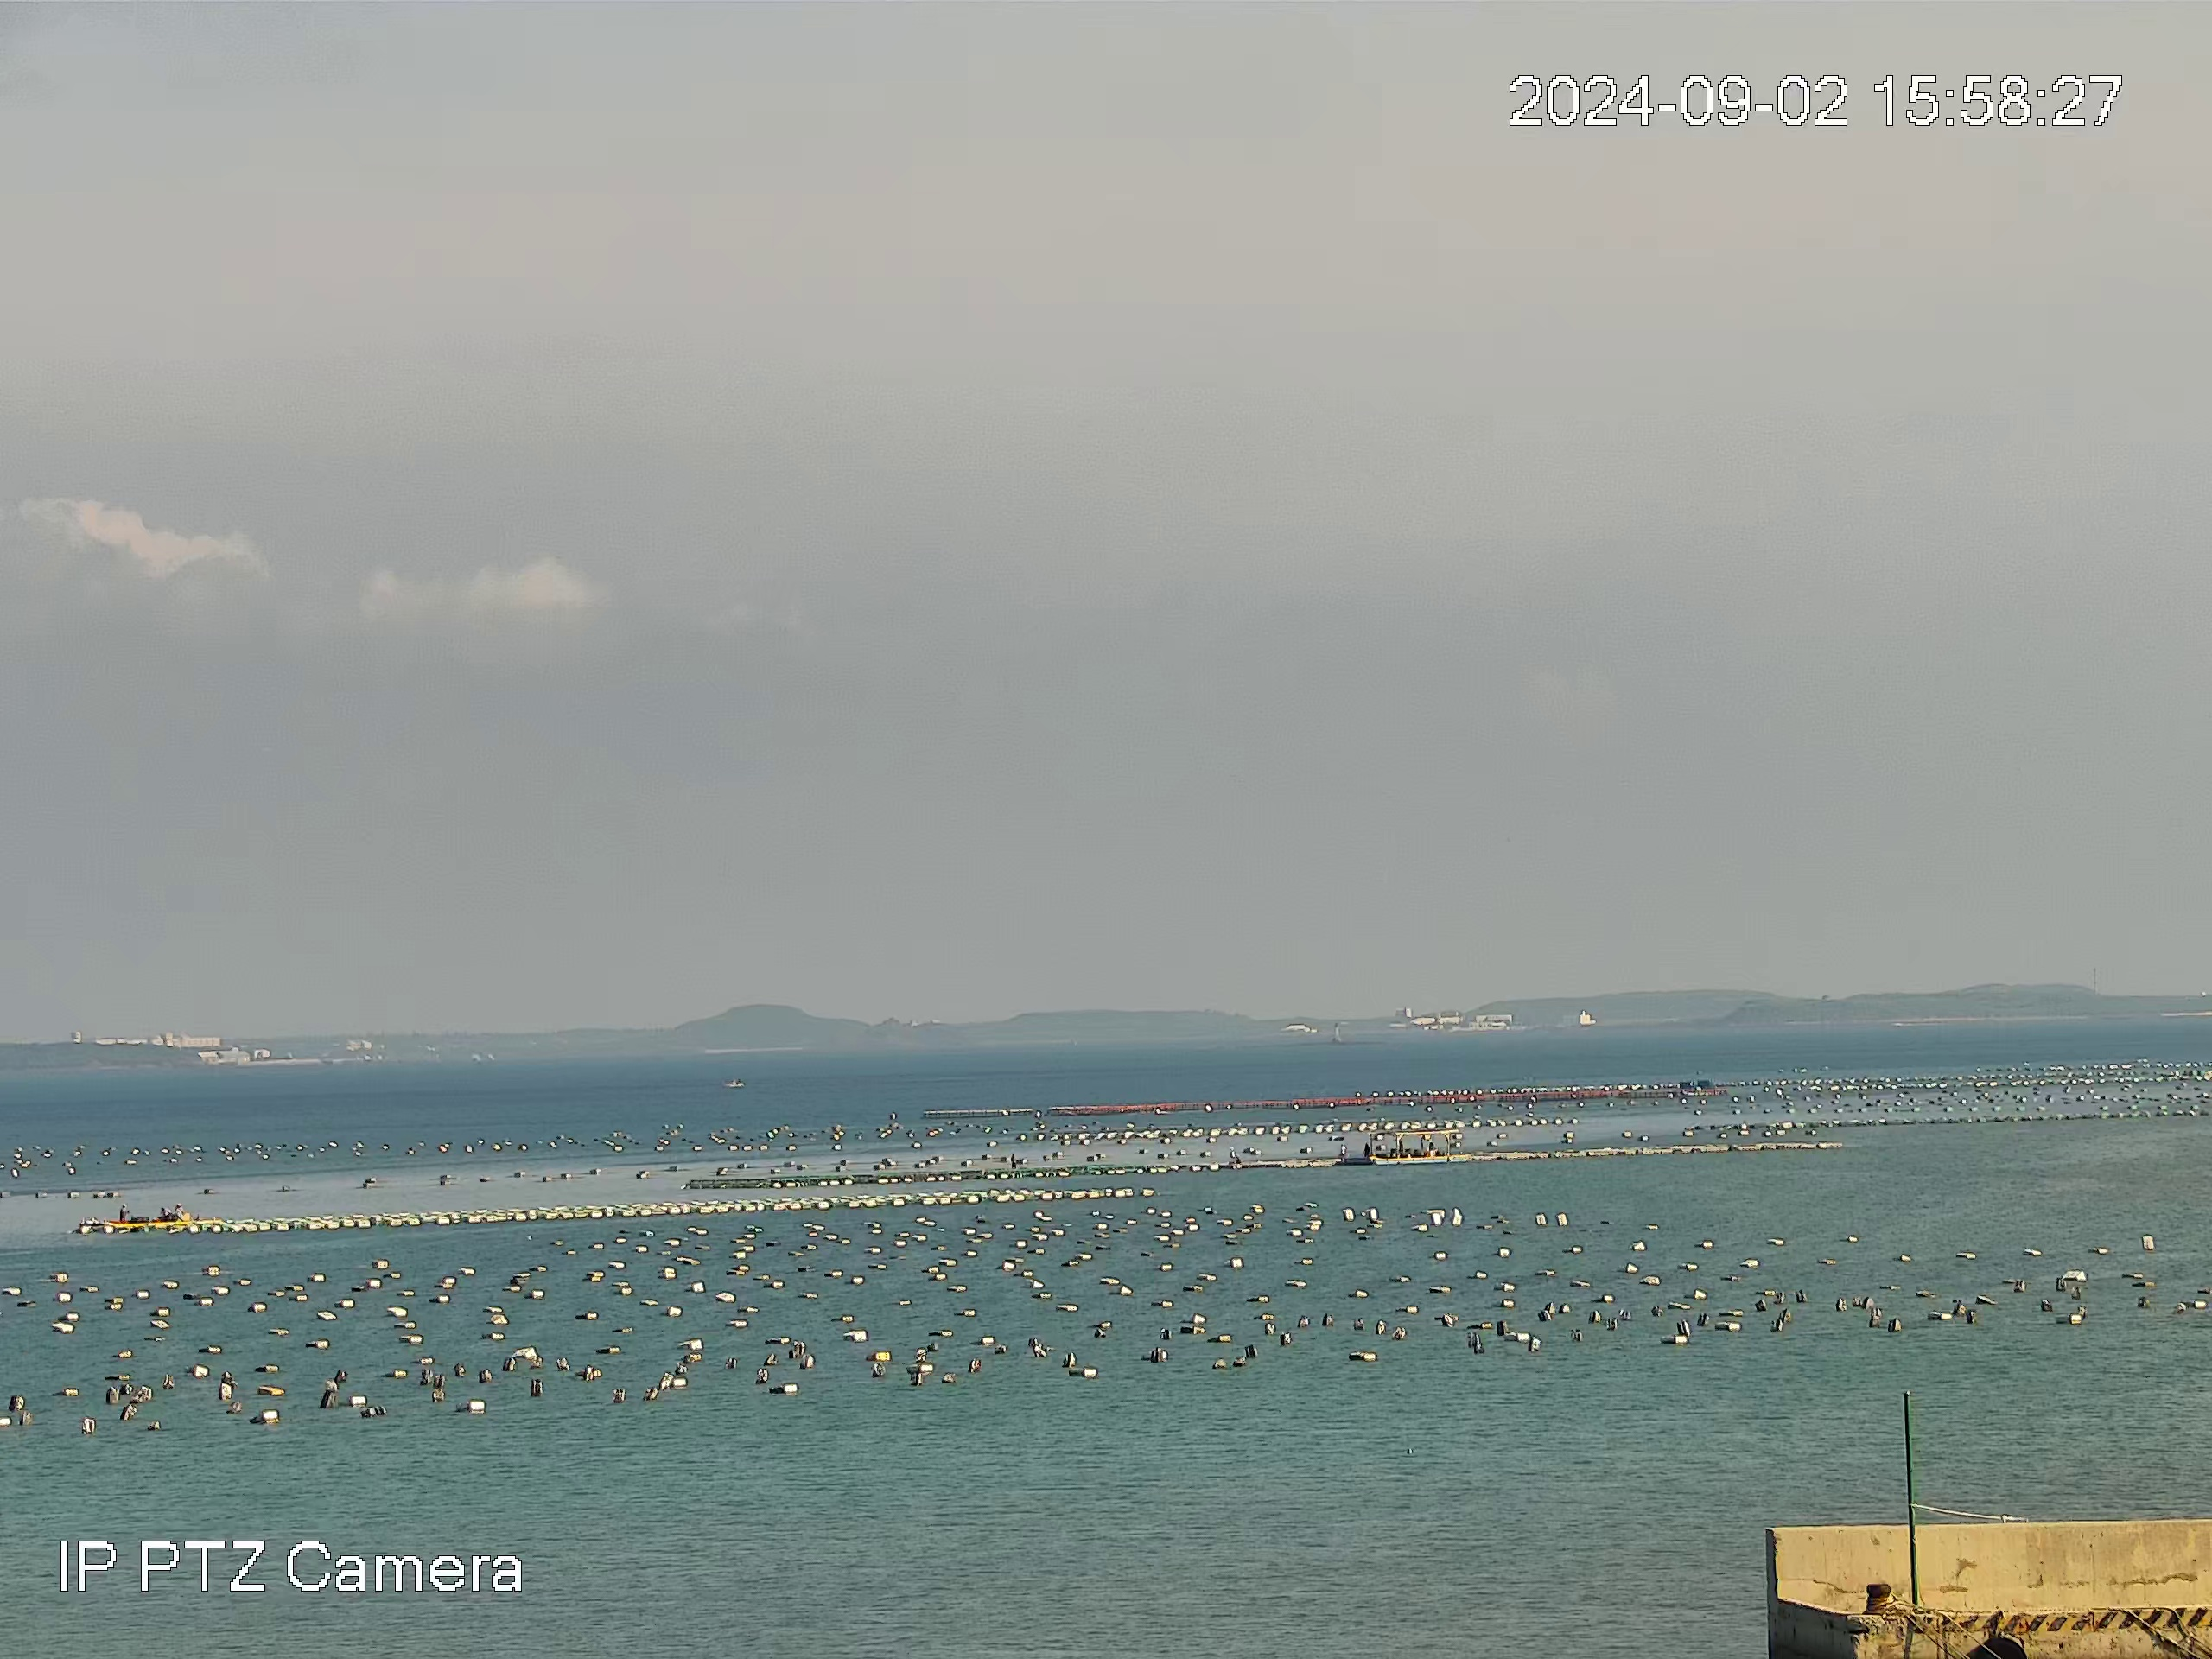boat: (1366, 1127, 1474, 1166), (101, 1202, 223, 1227), (719, 1075, 745, 1089)
